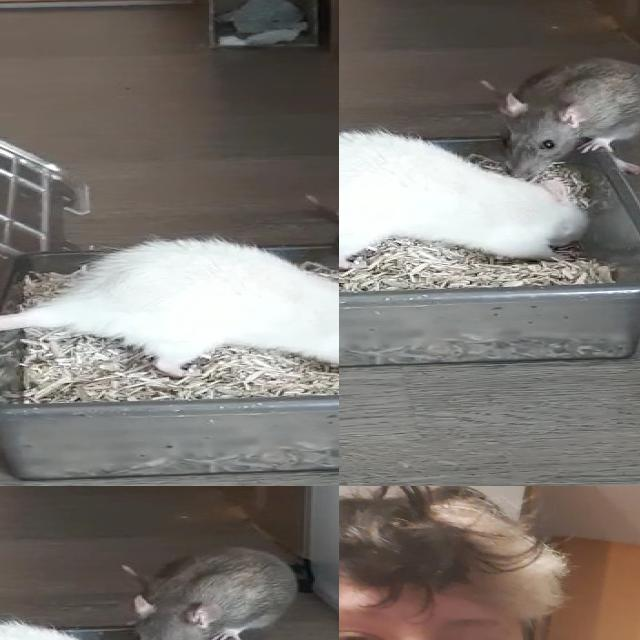rat: (51, 241, 339, 377), (339, 130, 589, 264), (115, 549, 302, 640), (496, 61, 640, 178)
